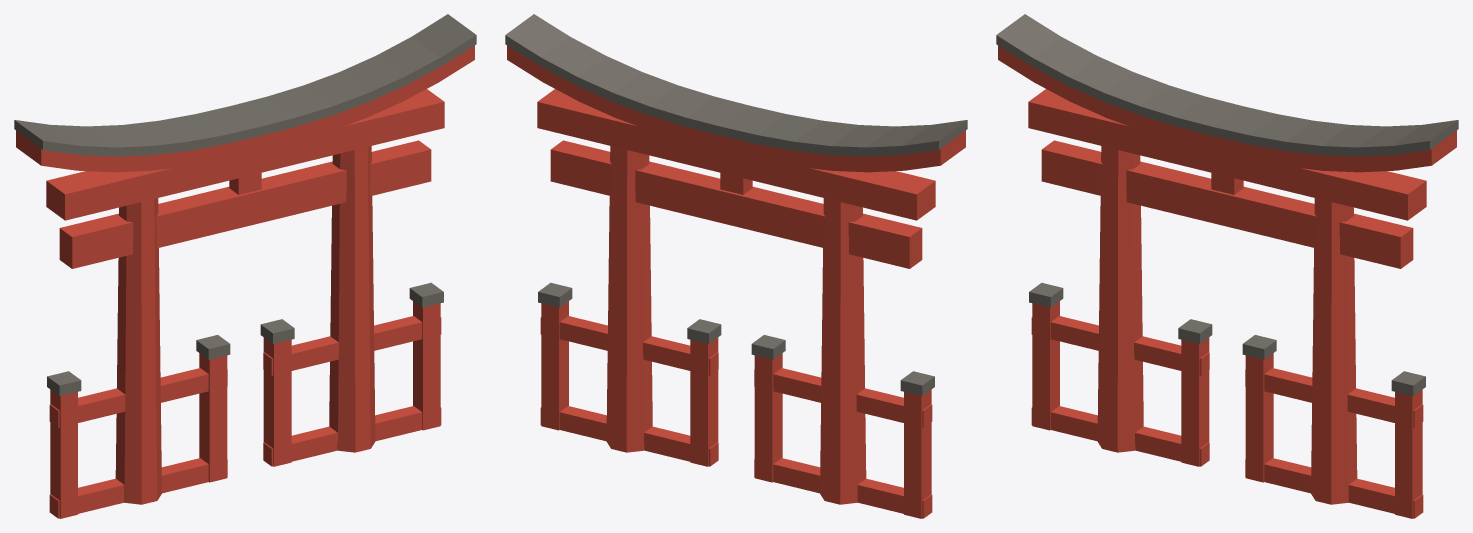
File: nyc-bbg-torii.glb
3 views of the same model, side by side, from view 1: azimuth 30°, elevation 25°; view 2: azimuth 150°, elevation 25°; view 3: azimuth 330°, elevation 25° (orthographic).
Visible parts, largest first — view 1: Torii, Japanese Hill-and-Pond Garden; view 2: Torii, Japanese Hill-and-Pond Garden; view 3: Torii, Japanese Hill-and-Pond Garden.
Part boxes in pixels (left/top/right/bottom): Torii, Japanese Hill-and-Pond Garden: left=14, top=14, right=476, bottom=518; Torii, Japanese Hill-and-Pond Garden: left=505, top=14, right=967, bottom=518; Torii, Japanese Hill-and-Pond Garden: left=996, top=14, right=1458, bottom=518.
Size of the model in its own units: 6.4 by 5.52 by 0.736.
